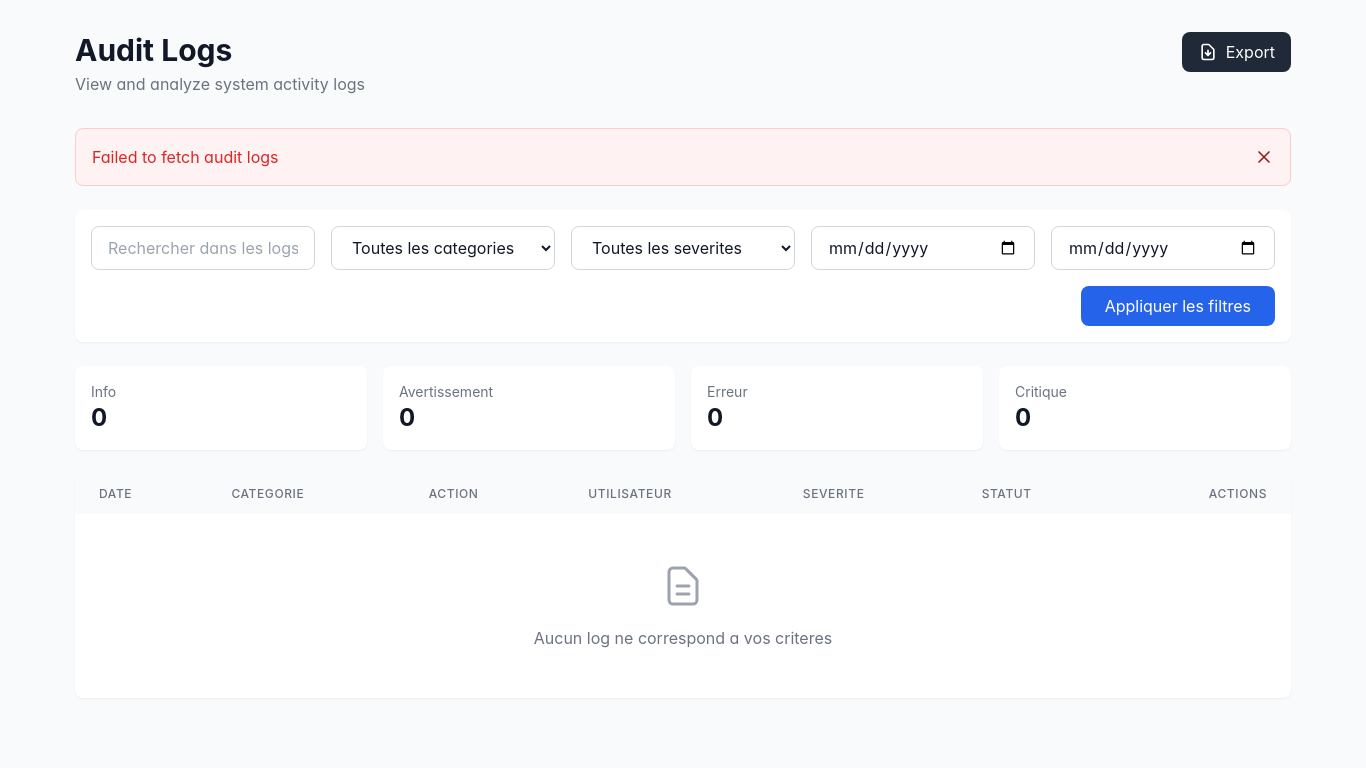
AuditLogs › Error Handling › should dismiss error when dismiss button is clicked
Expected: the text "Failed to fetch audit logs" is shown, x1=92 y1=145 x2=278 y2=169
Click the button named "dismiss error" at (1264, 157), box x1=1254 y1=147 x2=1274 y2=167
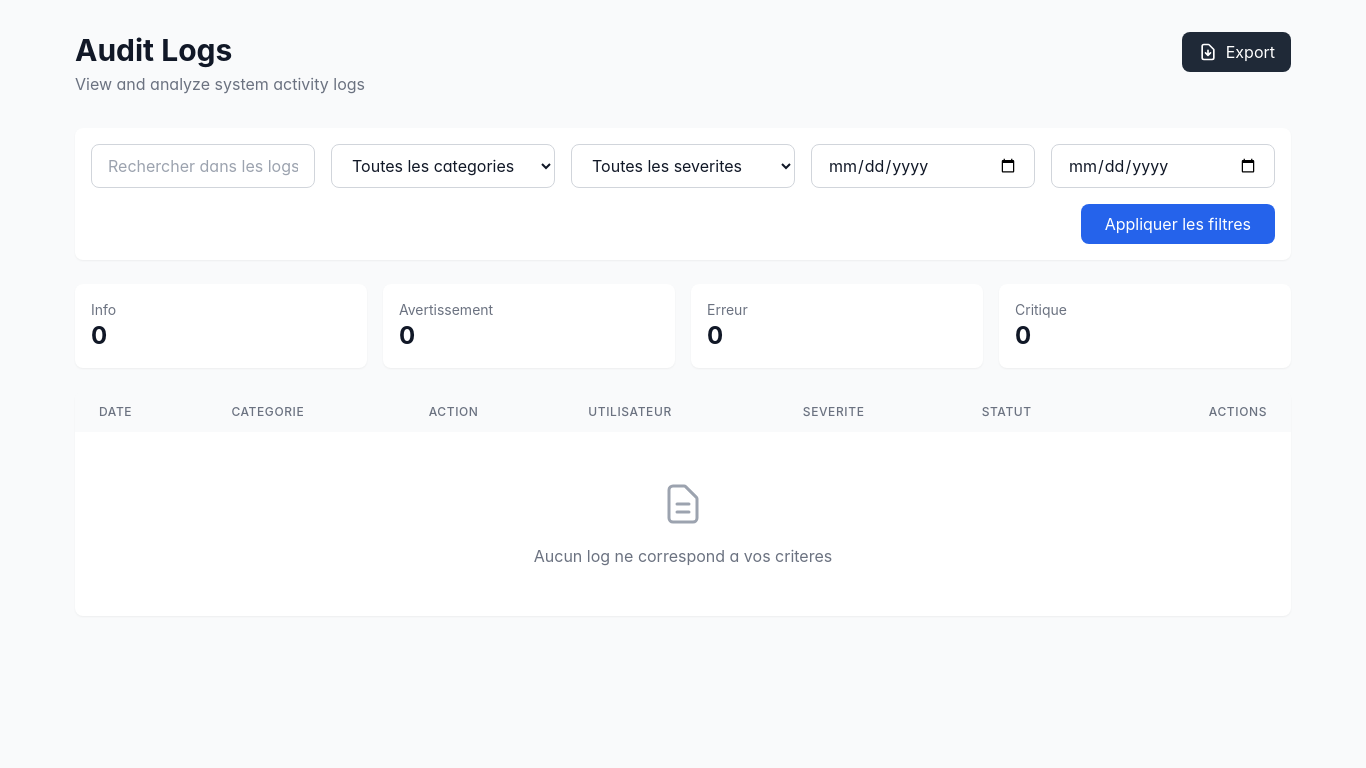
Expected: the text "Failed to fetch audit logs" is gone
